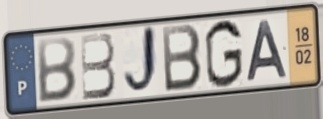A: (244, 18, 290, 83)
B: (160, 22, 204, 95), (36, 35, 78, 105), (78, 30, 118, 103)
G: (203, 18, 245, 90)
J: (122, 23, 161, 100)
